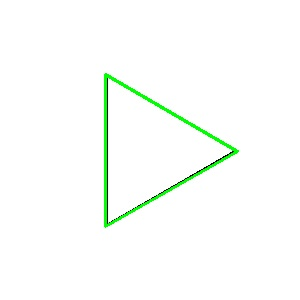line_segment: (104, 74, 238, 227)
